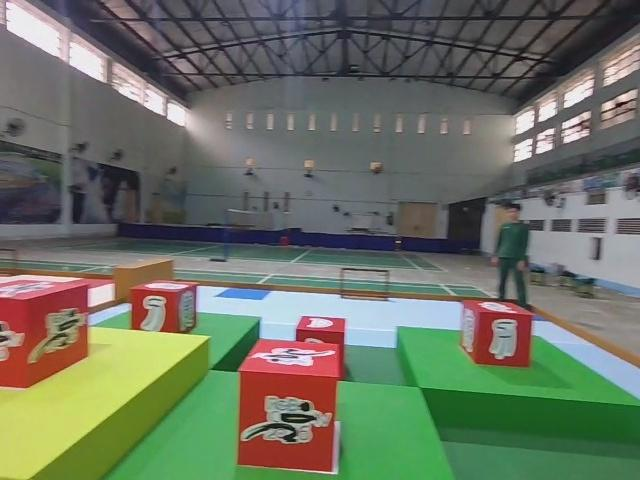R1: (236, 335, 341, 471), (0, 275, 91, 391)
R2 Fake: (458, 296, 534, 371), (128, 278, 198, 339)
